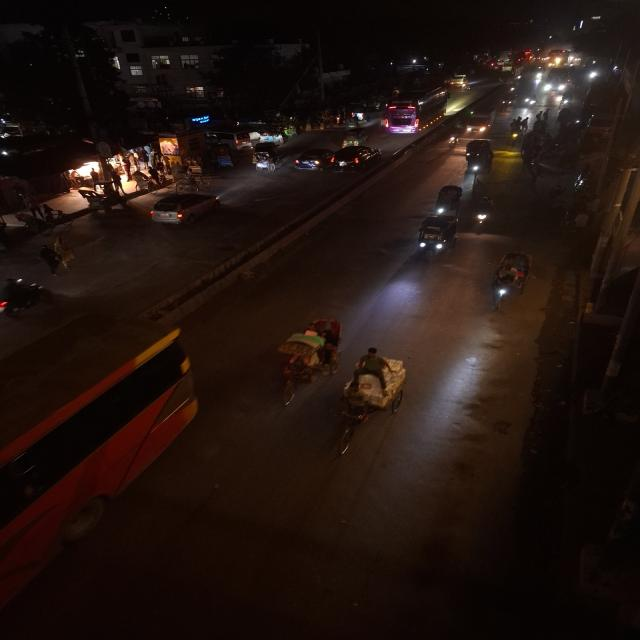bus: (0, 312, 210, 602), (378, 85, 451, 136)
car: (145, 192, 229, 233), (327, 143, 382, 172), (294, 146, 330, 172)
cng: (412, 211, 464, 266), (340, 128, 370, 146)
motorcycle: (1, 278, 56, 320), (472, 195, 497, 234), (506, 119, 523, 145), (447, 129, 463, 153), (459, 83, 471, 90)
pedestrian: (29, 244, 61, 277), (48, 237, 76, 270), (521, 117, 534, 135), (542, 104, 553, 125), (531, 109, 547, 122)
rickshaw: (336, 348, 408, 455), (266, 315, 342, 410), (482, 247, 536, 315), (12, 207, 78, 235), (76, 184, 126, 214), (250, 140, 287, 174), (464, 146, 497, 183), (170, 170, 214, 194), (432, 180, 461, 216), (132, 168, 170, 195), (557, 92, 574, 110)
truck: (465, 105, 500, 137), (451, 74, 467, 87)
